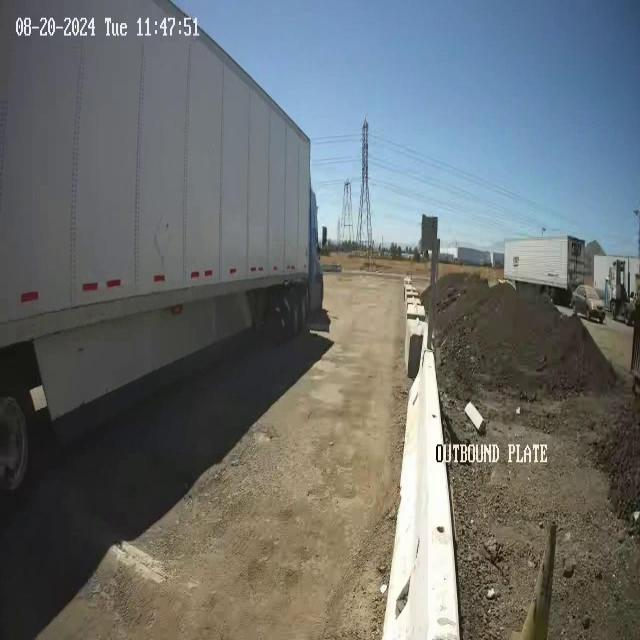TRUCK_IN: (1, 1, 326, 491)
